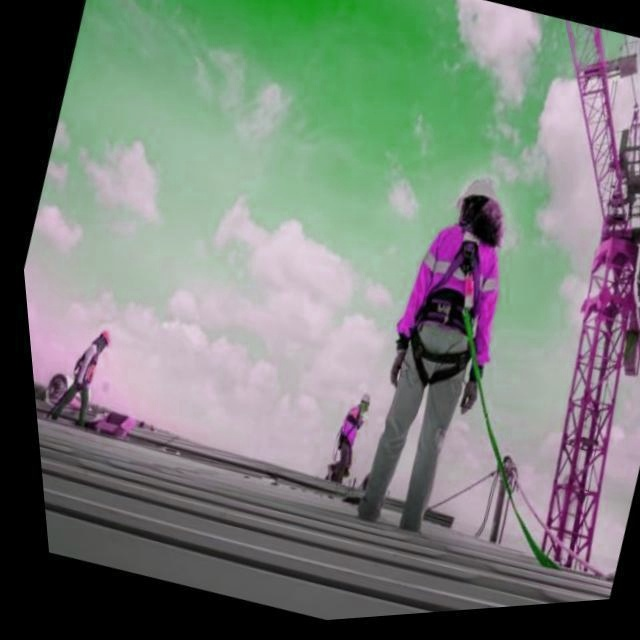safety belt: (414, 223, 492, 398), (71, 345, 105, 390), (343, 403, 360, 454)
